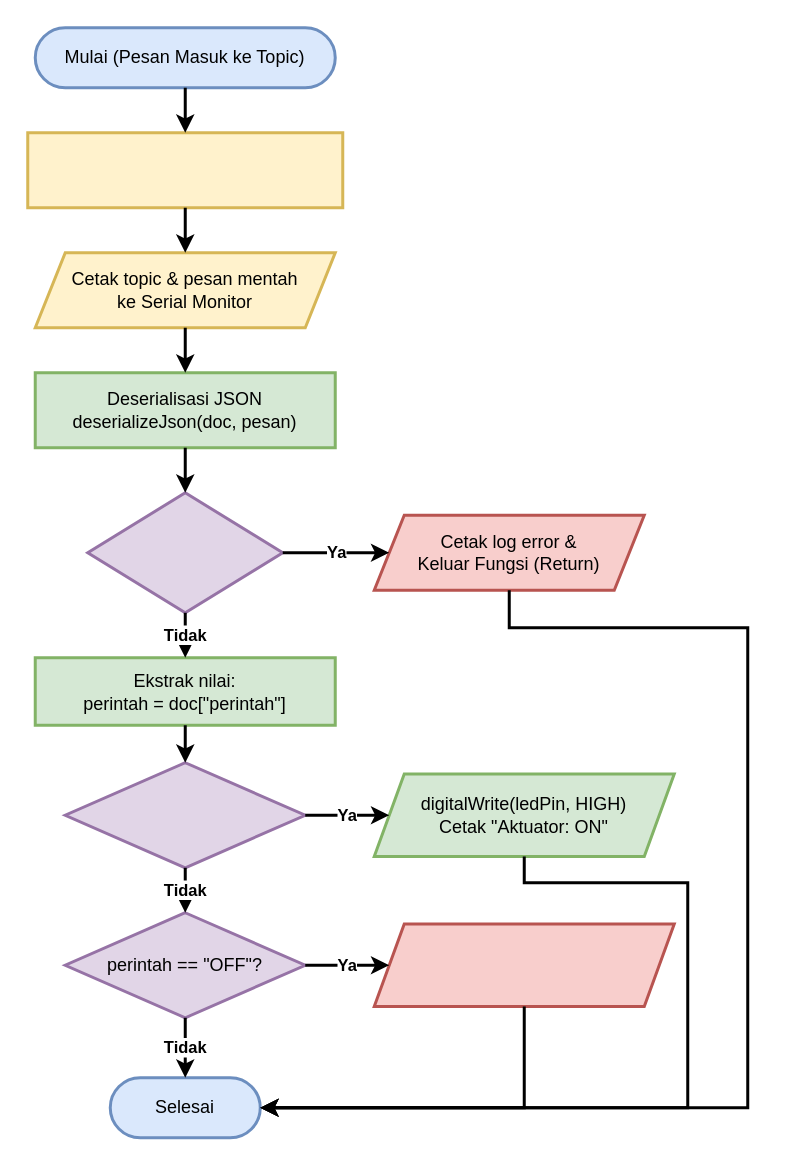
This 786x1164 diagram has some shape labels left out. The shapes that lost their labels are listed below. From the top down, each one's centre as x and y in pixels, then its label:
(x=185, y=169): Baca byte payload & Gabungkan menjadi String pesan
(x=185, y=552): Parsing Error?
(x=184, y=814): perintah == "ON"?
(x=523, y=964): digitalWrite(ledPin, LOW) Cetak "Aktuator: OFF"
